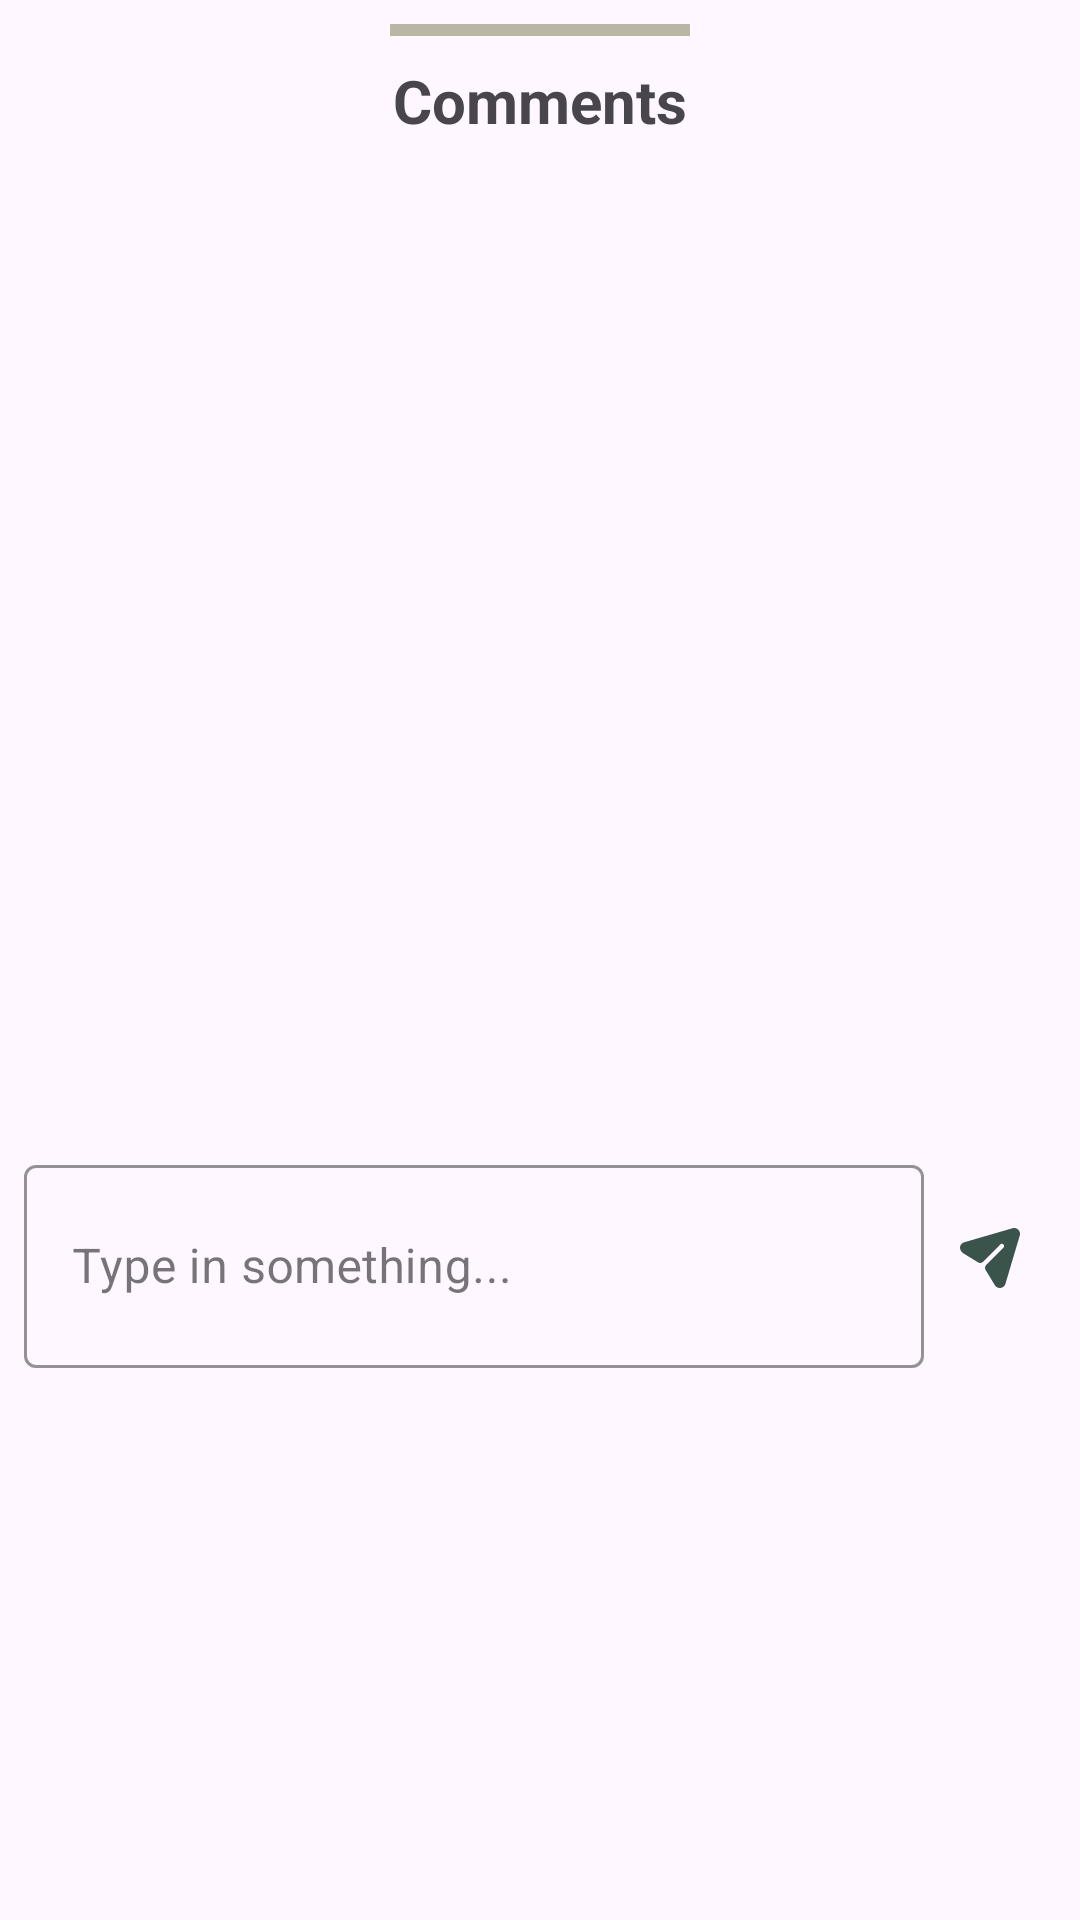

Where to tap for icons on this 1080px×1920px app screen, as [x,y]:
Send token: [990,1258]
